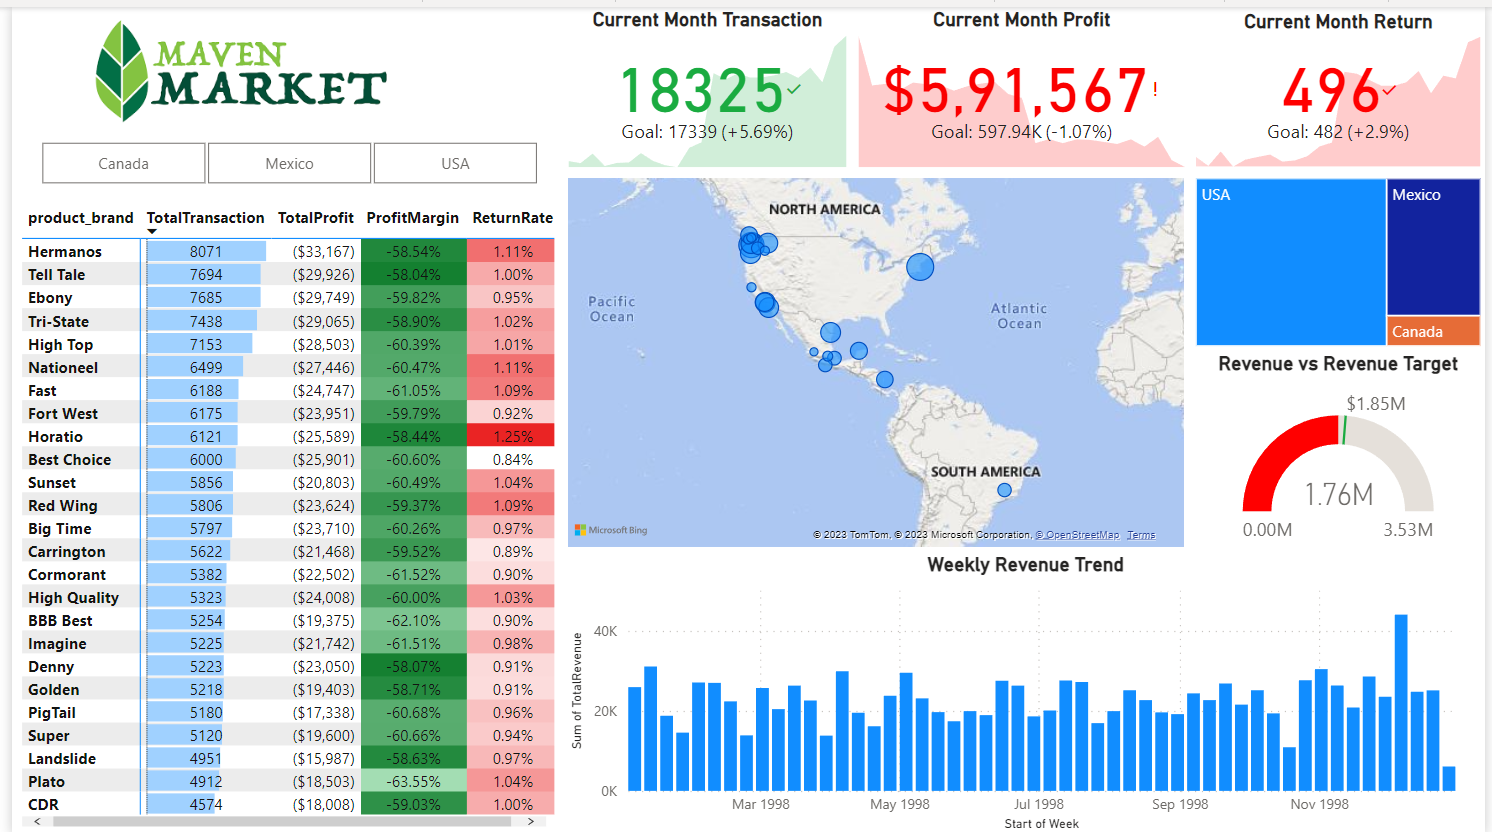

This screenshot's page, from the dashboard's own definition file:
{"tool":"powerbi","page":{"name":"Topline Performance ","canvas":[1280,720],"ordinal":0},"visuals":[{"type":"pivotTable","fields":{"Rows":["Products.product_brand"],"Values":["Transaction_data.TotalTransaction","Transaction_data.TotalProfit","Transaction_data.ProfitMargin","Return_Data.ReturnRate"]},"box":[0,164.4,480.4,555.6],"z":0},{"type":"kpi","title":"Current Month Transaction ","fields":{"TrendLine":["Calendar.Start of Month"],"Indicator":["Transaction_data.TotalTransaction"],"Goal":["Transaction_data.LastMonthTransaction"]},"box":[478,0,251.4,143.3],"z":1000},{"type":"kpi","title":"Current Month Return ","fields":{"TrendLine":["Calendar.Start of Month"],"Indicator":["Return_Data.TotalReturned"],"Goal":["Return_Data.LastMonthReturn"]},"box":[1023,1.2,257.2,142.1],"z":2000},{"type":"kpi","title":"Current Month Profit","fields":{"Goal":["Transaction_data.LastMonthProfit"],"Indicator":["Transaction_data.TotalProfit"],"TrendLine":["Calendar.Start of Month"]},"box":[729.4,0,293.6,143.3],"z":3000},{"type":"map","fields":{"Category":["Stores.city"],"Size":["Transaction_data.TotalTransaction"]},"box":[478,143.3,545,330],"z":4000},{"type":"clusteredColumnChart","title":"Weekly Revenue Trend","fields":{"Y":["Sum(Transaction_data.TotalRevenue)"],"Category":["Calendar.Start of Week"]},"box":[480.4,473.3,799.9,246.7],"z":5000},{"type":"treemap","fields":{"Group":["Stores.country/Region"],"Values":["Transaction_data.TotalTransaction"]},"box":[1023,143.3,257.2,155],"z":6000},{"type":"gauge","title":"Revenue vs Revenue Target ","fields":{"TargetValue":["Transaction_data.RevenueTraget"],"Y":["Sum(Transaction_data.TotalRevenue)"]},"box":[1023,298.3,257.2,175],"z":7000},{"type":"image","box":[10.6,0,374.7,110.4],"z":8000},{"type":"slicer","fields":{"Values":["Customers.country/Region"]},"box":[0,110.4,480.4,49.3],"z":9000}]}

Visuals, with their boxes in screenshot pixels (x1, y1, x2, y2), scaled from the page's 1280x720 canvas onto the 1492x832 screenshot:
pivotTable - Products.product_brand x Transaction_data.TotalTransaction: [x1=0, y1=190, x2=560, y2=831]
"Current Month Transaction " kpi: [x1=557, y1=0, x2=850, y2=166]
"Current Month Return " kpi: [x1=1192, y1=1, x2=1491, y2=166]
"Current Month Profit" kpi: [x1=850, y1=0, x2=1192, y2=166]
map - Stores.city x Transaction_data.TotalTransaction: [x1=557, y1=166, x2=1192, y2=547]
"Weekly Revenue Trend" clusteredColumnChart: [x1=560, y1=547, x2=1491, y2=831]
treemap - Stores.country/Region x Transaction_data.TotalTransaction: [x1=1192, y1=166, x2=1491, y2=345]
"Revenue vs Revenue Target " gauge: [x1=1192, y1=345, x2=1491, y2=547]
image: [x1=12, y1=0, x2=449, y2=128]
slicer - Customers.country/Region: [x1=0, y1=128, x2=560, y2=185]
